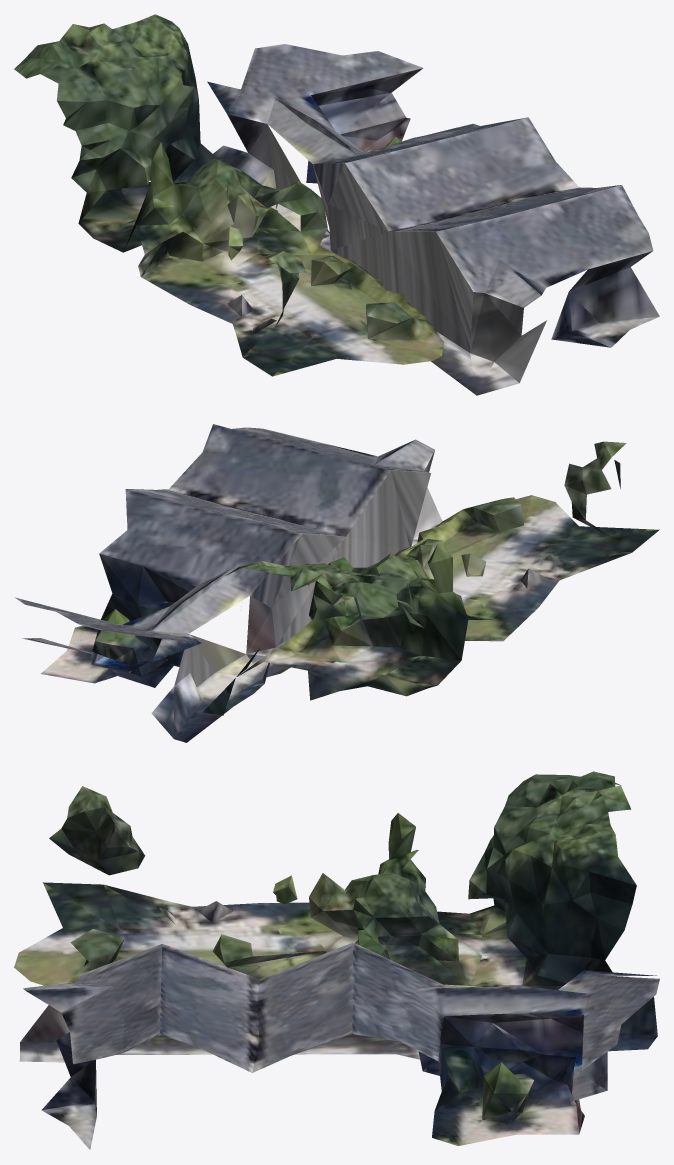
File: Tile_+000_+006_L17_00.glb
3 renders of one model, top to bottom at view 1: azimuth 30°, elevation 25°; view 2: azimuth 150°, elevation 25°; view 3: azimuth 270°, elevation 25°, orthographic. The views are drawn at different scales.
Size of the model in its own units: 46.69 by 20.66 by 60.8.
1 material, 1 textured.
